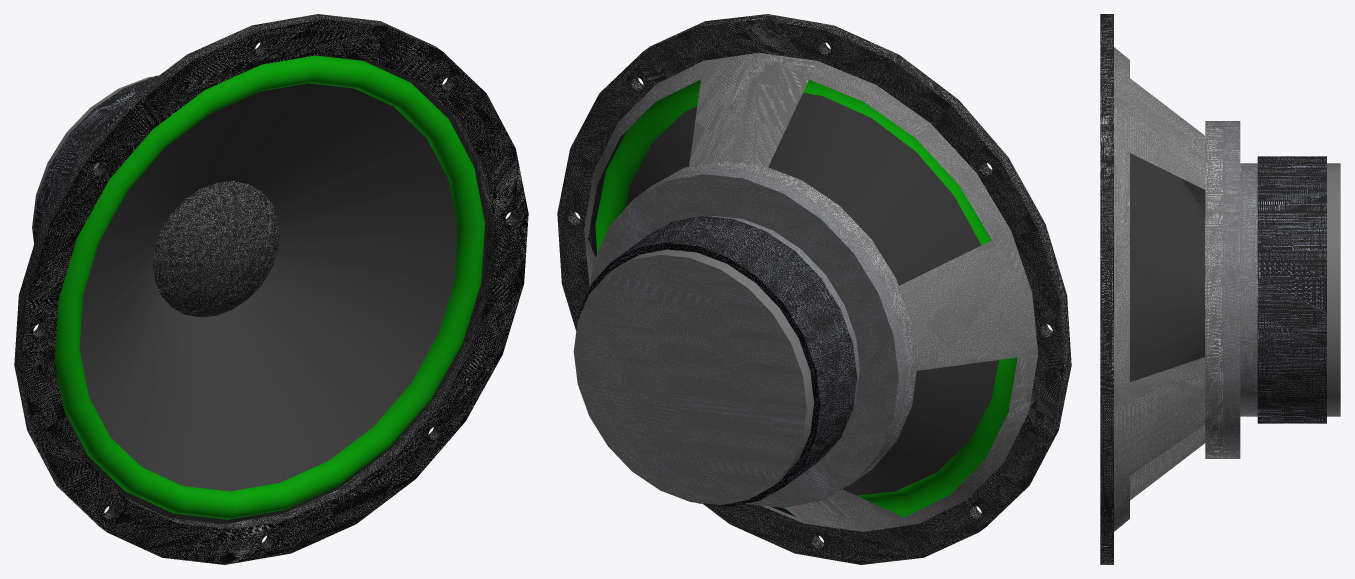
3 views of the same model, side by side, from view 1: azimuth 30°, elevation 25°; view 2: azimuth 150°, elevation 25°; view 3: azimuth 270°, elevation 25° (orthographic). The views are drawn at different scales.
Visible parts, largest first — view 1: group_0 (×9); view 2: group_0 (×11); view 3: group_0 (×7).
Part boxes in pixels (bbox=[...]): group_0 (×9): bbox=[14, 14, 528, 564]; group_0 (×11): bbox=[557, 14, 1071, 564]; group_0 (×7): bbox=[1100, 14, 1340, 564].
Size of the model in its own units: 7.92 by 3.44 by 7.92.
